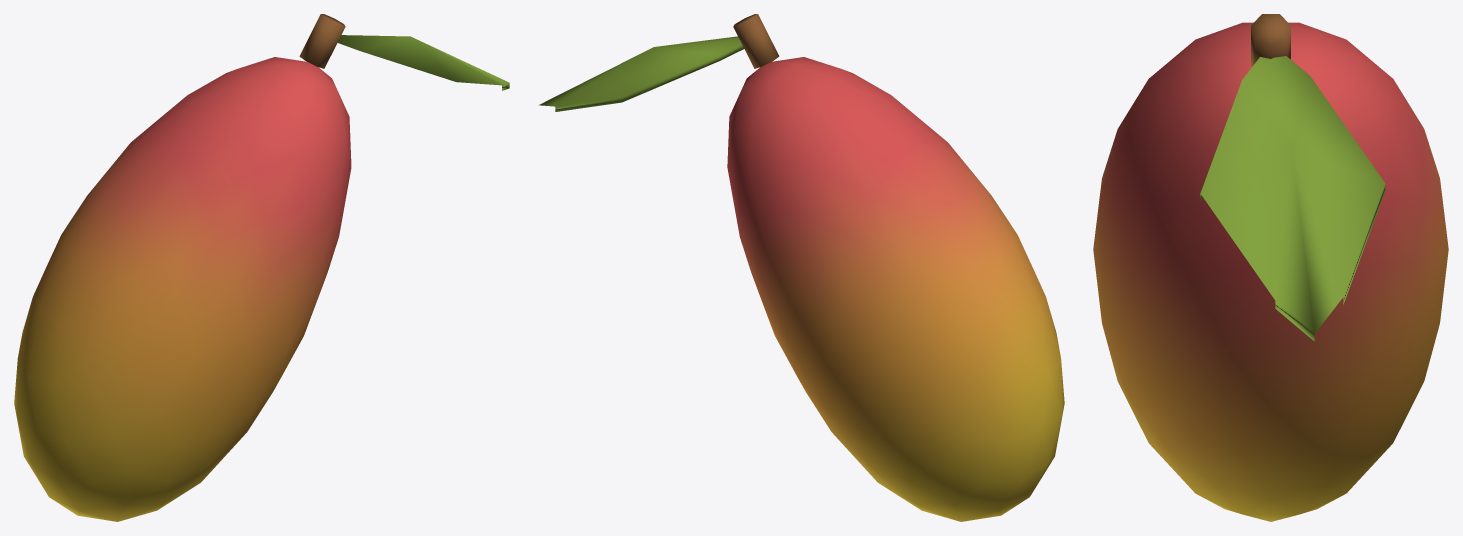
Rendered from 08_mango.glb.
3 renders of one model, left to right at view 1: azimuth 30°, elevation 25°; view 2: azimuth 150°, elevation 25°; view 3: azimuth 270°, elevation 25°, orthographic. The views are drawn at different scales.
Visible parts, largest first — view 1: Mango leaf; view 2: Mango leaf; view 3: Mango leaf.
Part boxes in pixels (x1,y1,x2,y2): Mango leaf: (14, 14, 509, 521); Mango leaf: (539, 14, 1064, 521); Mango leaf: (1093, 14, 1448, 521).
Size of the model in its own units: 0.2804 by 0.2414 by 0.122.
